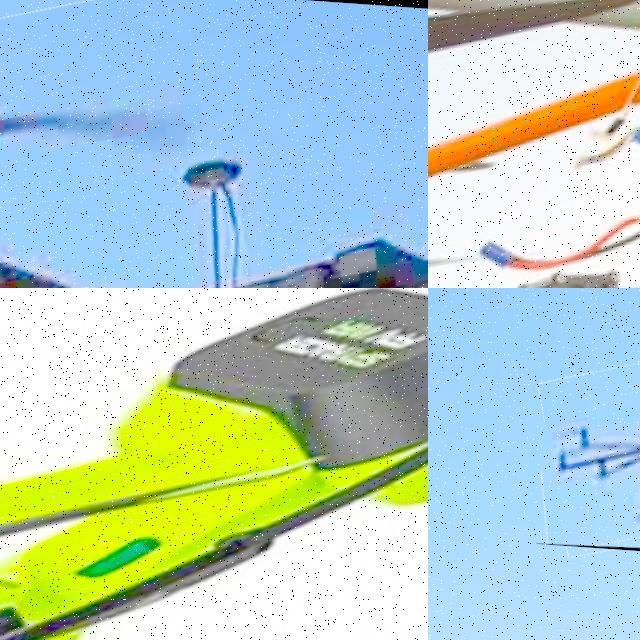0: (0, 0, 428, 288), (536, 347, 640, 558)
drone: (0, 288, 428, 640), (428, 0, 640, 288)
